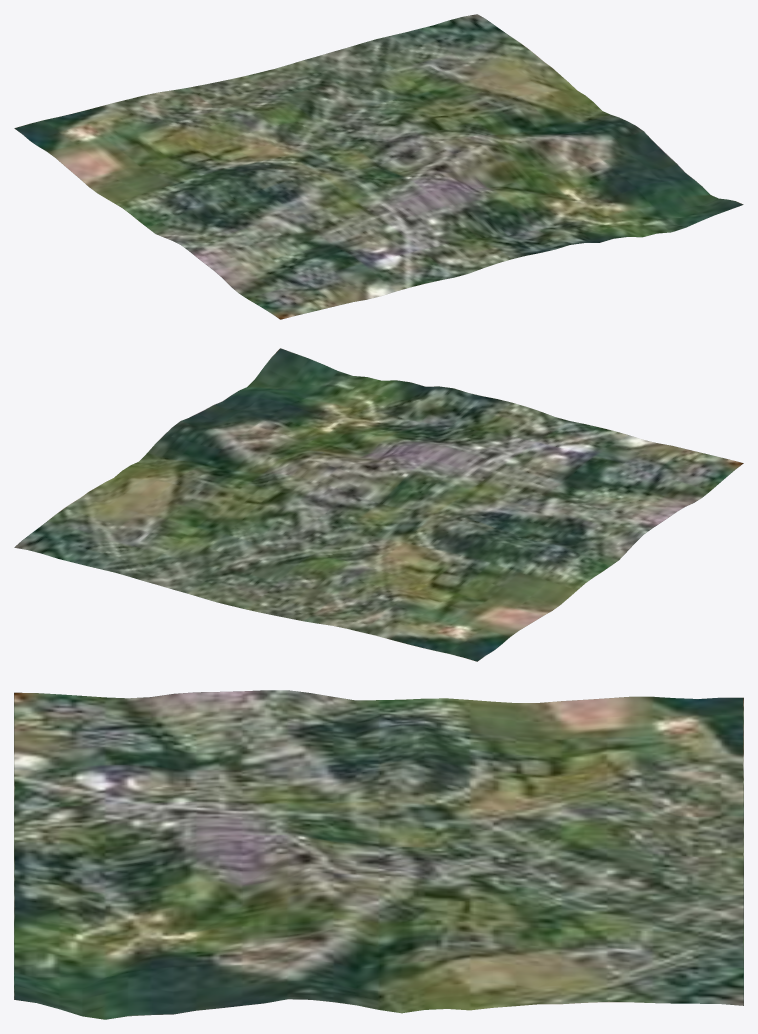
3 views of the same model, one above another, from view 1: azimuth 30°, elevation 25°; view 2: azimuth 150°, elevation 25°; view 3: azimuth 270°, elevation 25° (orthographic). The views are drawn at different scales.
Size of the model in its own units: 1950 by 95.06 by 1941.
Materials: 1 (1 with a texture image).
